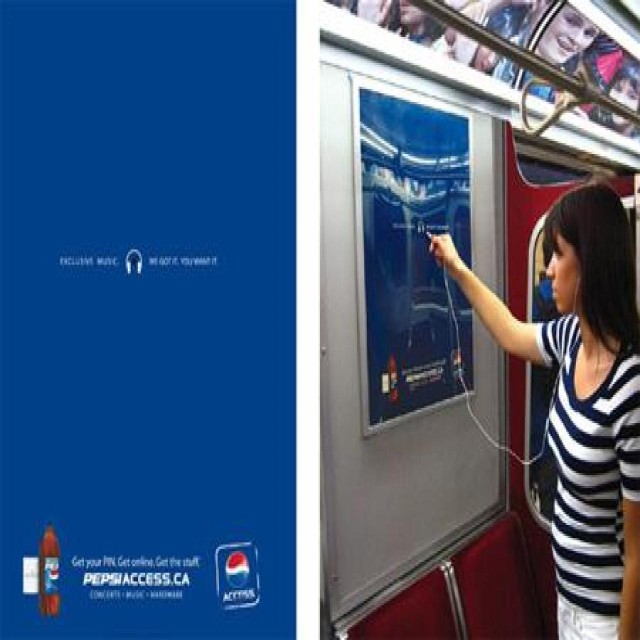pepsi: (223, 545, 254, 591)
